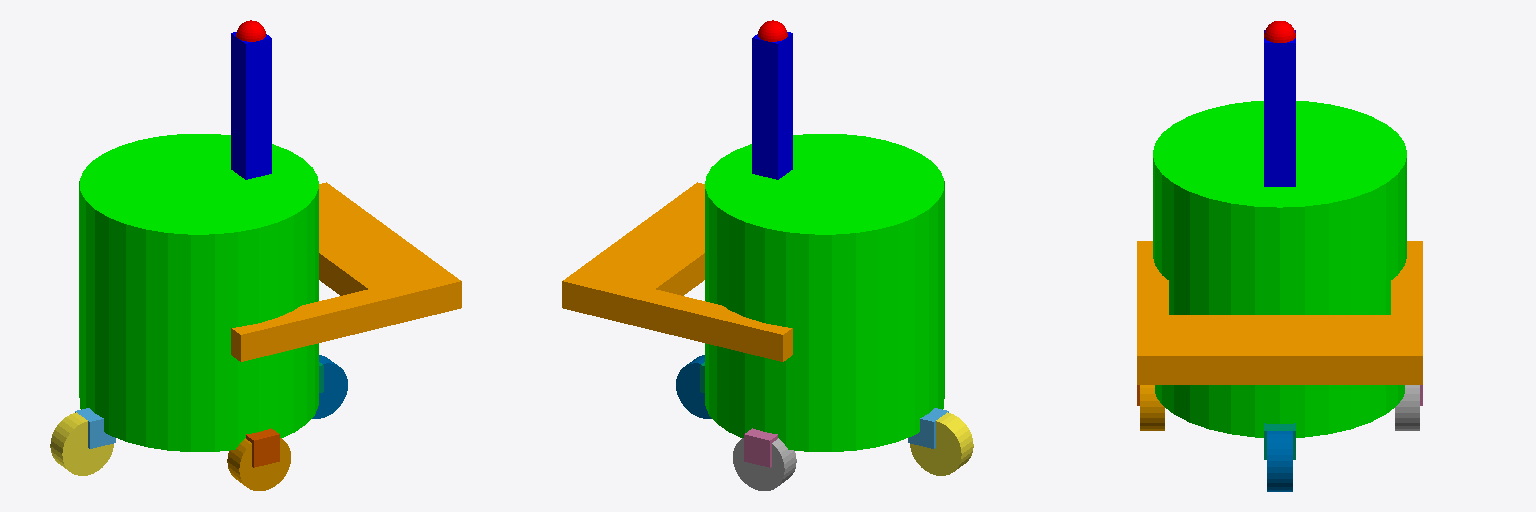
robot.urdf — my_robot:
<?xml version="1.0"?>
<robot name="my_robot">
    <material name="green">
        <color rgba="0 1 0 1"/>        
    </material>

    <material name="red">
        <color rgba="1 0 0 1"/>        
    </material>

    <material name="blue">
        <color rgba="0 0 1 1"/>        
    </material>

    <material name="white">
        <color rgba="1 1 1 1"/>        
    </material>

    <material name="orange">
        <color rgba="1 .647 0 1"/>        
    </material>

    <material name="yellow">
        <color rgba="1 1 0 1"/>        
    </material>

    <!-- Body -->
    <link name="base_link">
        <visual>
        <origin xyz="0.0 0.0 0.2" rpy="0.0 0.0 3.14"/>
            <geometry>
                <cylinder radius="0.2" length=".4"/>
            </geometry>
            <material name="green">
                
            </material>
        </visual>
        <collision>
        <origin xyz="0.0 0.0 0.2" rpy="0.0 0.0 3.14"/>
            <geometry>
                <cylinder radius="0.2" length=".4"/>
            </geometry>
        </collision>
        <inertial>
            <mass value=".5"/>
            <inertia ixx="0.01166667" ixy="0.0" ixz="0.0" iyy="0.01166667" iyz="0.0" izz="0.01000000"/>
        </inertial>
    </link>


    <!--front & rear castors-->
    <link name="rear_castor">
        <visual>
            <geometry>
                <box size="0.05 0.05 0.05"/>    
            </geometry>
            <material name="black">
            </material> 
        </visual>        
        <collision>
            <geometry>
                <box size="0.05 0.05 0.05"/>
            </geometry>
        </collision>
        <inertial>
            <mass value=".2"/>
            <inertia ixx="0.00008333" ixy="0.0" ixz="0.0" iyy="0.00008333" iyz="0.0" izz="0.00008333"/>
        </inertial>
    </link>


    <joint name="rear_castor_joint" type="continuous">
        <axis xyz="0 0 -1"/>
        <origin xyz="-.2 0.0 0"/>
        <parent link="base_link"/>
        <child link="rear_castor"/>
    </joint>


    <link name="front_castor">
        <visual>
            <geometry>
                <box size="0.05 0.05 0.05"/>    
            </geometry>
            <material name="black">
            </material> 
        </visual>        
        <collision>
            <geometry>
                <box size="0.05 0.05 0.05"/>
            </geometry>
        </collision>
        <inertial>
            <mass value=".2"/>
            <inertia ixx="0.00008333" ixy="0.0" ixz="0.0" iyy="0.00008333" iyz="0.0" izz="0.00008333"/>
        </inertial>
    </link>


    <joint name="front_castor_joint" type="continuous">
        <axis xyz="0 0 -1"/>
        <origin xyz=".2 0.0 0"/>
        <parent link="base_link"/>
        <child link="front_castor"/>
    </joint>

    <!--front & rear wheels-->
    <link name="rear_wheel">
        <visual>
            <origin rpy="-1.57 0.0 0"/>
            <geometry>
                <cylinder radius="0.05" length=".04"/>
            </geometry>
            <material name="black">
            </material> 
        </visual>
        <collision>
            <origin rpy="-1.57 0.0 0"/>
            <geometry>
                <cylinder radius="0.05" length=".04"/>
            </geometry>
        </collision>
        <inertial>
            <mass value=".2"/>
            <inertia ixx="0.00015167" ixy="0.0" ixz="0.0" iyy="0.00015167" iyz="0.0" izz="0.00015167"/>
        </inertial>
    </link>

    <joint name="rear_wheel_joint" type="continuous">
        <origin xyz="-.025 0.0 -0.025"/>
        <axis xyz="0.0 1 0.0"/>
        <parent link="rear_castor"/>
        <child link="rear_wheel"/>
    </joint>

     <link name="front_wheel">
        <visual>
            <origin rpy="-1.57 0.0 0"/>
            <geometry>
                <cylinder radius="0.05" length=".04"/>
            </geometry>
            <material name="black">
            </material> 
        </visual>
        <collision>
            <origin rpy="-1.57 0.0 0"/>
            <geometry>
                <cylinder radius="0.05" length=".04"/>
            </geometry>
        </collision>
       <inertial>
            <mass value=".2"/>
            <inertia ixx="0.00015167" ixy="0.0" ixz="0.0" iyy="0.00015167" iyz="0.0" izz="0.00015167"/>
        </inertial>
    </link>

    <joint name="front_wheel_joint" type="continuous">
        <origin xyz=".025 0.0 -0.025"/>
        <axis xyz="0.0 1 0.0"/>
        <parent link="front_castor"/>
        <child link="front_wheel"/>
    </joint>

    <!--left & right castors-->
    <link name="right_castor">
        <visual>
            <geometry>
                <box size="0.05 0.05 0.05"/>    
            </geometry>
            <material name="black">
            </material> 
        </visual>        
        <collision>
            <geometry>
                <box size="0.05 0.05 0.05"/>
            </geometry>
        </collision>
        <inertial>
            <mass value=".2"/>
            <inertia ixx="0.00008333" ixy="0.0" ixz="0.0" iyy="0.00008333" iyz="0.0" izz="0.00008333"/>
        </inertial>
    </link>


    <joint name="right_castor_joint" type="fixed">
        <axis xyz="0 0 -1"/>
        <origin xyz="0 -0.2 0"/>
        <parent link="base_link"/>
        <child link="right_castor"/>
    </joint>


    <link name="left_castor">
        <visual>
            <geometry>
                <box size="0.05 0.05 0.05"/>    
            </geometry>
            <material name="black">
            </material> 
        </visual>        
        <collision>
            <geometry>
                <box size="0.05 0.05 0.05"/>
            </geometry>
        </collision>
        <inertial>
            <mass value=".2"/>
            <inertia ixx="0.00008333" ixy="0.0" ixz="0.0" iyy="0.00008333" iyz="0.0" izz="0.00008333"/>
        </inertial>
    </link>


    <joint name="left_castor_joint" type="fixed">
        <axis xyz="0 0 -1"/>
        <origin xyz="0 0.2 0"/>
        <parent link="base_link"/>
        <child link="left_castor"/>
    </joint>

    <!--left & right wheels-->
    <link name="left_wheel">
        <visual>
            <origin rpy="-1.57 0.0 0"/>
            <geometry>
                <cylinder radius="0.05" length=".04"/>
            </geometry>
            <material name="black">
            </material> 
        </visual>
        <collision>
            <origin rpy="-1.57 0.0 0"/>
            <geometry>
                <cylinder radius="0.05" length=".04"/>
            </geometry>
        </collision>
        <inertial>
            <mass value=".2"/>
            <inertia ixx="0.00015167" ixy="0.0" ixz="0.0" iyy="0.00015167" iyz="0.0" izz="0.00015167"/>
        </inertial>
    </link>

    <joint name="left_wheel_joint" type="continuous">
        <origin xyz="0 0.0 -0.025"/>
        <axis xyz="0.0 1 0.0"/>
        <parent link="left_castor"/>
        <child link="left_wheel"/>
    </joint>

     <link name="right_wheel">
        <visual>
            <origin rpy="-1.57 0.0 0"/>
            <geometry>
                <cylinder radius="0.05" length=".04"/>
            </geometry>
            <material name="black">
            </material> 
        </visual>
        <collision>
            <origin rpy="-1.57 0.0 0"/>
            <geometry>
                <cylinder radius="0.05" length=".04"/>
            </geometry>
        </collision>
       <inertial>
            <mass value=".2"/>
            <inertia ixx="0.00015167" ixy="0.0" ixz="0.0" iyy="0.00015167" iyz="0.0" izz="0.00015167"/>
        </inertial>
    </link>

    <joint name="right_wheel_joint" type="continuous">
        <origin xyz="0 0.0 -0.025"/>
        <axis xyz="0.0 1 0.0"/>                                                                                                               
        <parent link="right_castor"/>
        <child link="right_wheel"/>
    </joint>


    <!--left & right hands-->
    <link name="right_hand">
        <visual>
            <origin xyz=".15 0.0 0.0"/>
            <geometry>
                <box size="0.4 0.05 0.05"/>
            </geometry>
            <material name="orange">
                
            </material>
        </visual>
        <collision>
        <origin xyz=".15 0.0 0.0"/>
            <geometry>
                <box size="0.4 0.05 0.05"/>
            </geometry>
        </collision>
        <inertial>
            <mass value=".08"/>
            <inertia ixx="0.00003333" ixy="0.0" ixz="0.0" iyy="0.00108333" iyz="0.0" izz="0.00108333"/>
        </inertial>
    </link>

    <joint name="right_hand_joint" type="fixed">
        <axis xyz="0 0 0"/>
        <origin xyz="0 -0.2 0.2"/>
        <parent link="base_link"/>
        <child link="right_hand"/>
    </joint>

    <link name="left_hand">
        <visual>
            <origin xyz=".15 0.0 0.0"/>
            <geometry>
                <box size="0.4 0.05 0.05"/>
            </geometry>
            <material name="orange">
                
            </material>
        </visual>
        <collision>
        <origin xyz=".15 0.0 0.0"/>
            <geometry>
                <box size="0.4 0.05 0.05"/>
            </geometry>
        </collision>
        <inertial>
            <mass value=".08"/>
            <inertia ixx="0.00003333" ixy="0.0" ixz="0.0" iyy="0.00108333" iyz="0.0" izz="0.00108333"/>
        </inertial>
    </link>

    <joint name="left_hand_joint" type="fixed">
        <axis xyz="0 0 0"/>
        <origin xyz="0 0.2 0.2"/>
        <parent link="base_link"/>
        <child link="left_hand"/>
    </joint>

    <!--tray-->
    <link name="tray">
        <visual>
            <origin xyz="0 0.0 0.0"/>
            <geometry>
                <box size="0.15 0.45 0.05"/>
            </geometry>
            <material name="orange">
                
            </material>
        </visual>
        <collision>
        <origin xyz="0 0.0 0.0"/>
            <geometry>
                <box size="0.15 0.4 0.05"/>front
            </geometry>
        </collision>
        <inertial>
            <mass value=".08"/>
            <inertia ixx="0.00108333" ixy="0.0" ixz="0.0" iyy="0.00016667" iyz="0.0" izz="0.00121667"/>
        </inertial>
    </link>

    <joint name="tray_joint" type="fixed">
        <axis xyz="0 0 0"/>
        <origin xyz=".30 0 0.2"/>
        <parent link="base_link"/>
        <child link="tray"/>
    </joint>

    <!--camera protrude-->
    <link name="camera_protrude">
         <visual>
            <origin xyz="0 0.0 0.125"/>
            <geometry>
                <box size="0.05 0.05 0.25"/>
            </geometry>
            <material name="blue">
                
            </material>
        </visual>
        <collision>
             <origin xyz="0 0.0 0.125"/>
            <geometry>
                <box size="0.05 0.05 0.25"/>
            </geometry>
        </collision>
        <inertial>
            <mass value=".04"/>
            <inertia ixx="0.00003533" ixy="0.0" ixz="0.0" iyy="0.00003533" iyz="0.0" izz="0.00001667"/>
        </inertial>
    </link>

    <joint name="camera_protrude_joint" type="fixed">
        <axis xyz="0 0 0"/>
        <origin xyz=".10 0 0.4"/>
        <parent link="base_link"/>
        <child link="camera_protrude"/>
    </joint>



    <!--camera-->

    <link name="camera">
    <collision>
      <origin xyz="0 0 -0.025" rpy="0 0 0"/>
        <geometry>
            <sphere radius="0.025"/>
      </geometry>
    </collision>

    <visual>
      <origin xyz="0 0 -.025" rpy="0 0 0"/>
        <geometry>
            <sphere radius="0.025"/>
      </geometry>
      <material name="red"/>
    </visual>

    <inertial>
      <mass value=".02" />
      <inertia ixx="0.00000500" ixy="0" ixz="0" iyy="0.00000500" iyz="0" izz="0.00000500" />
    </inertial>
  </link>

  <joint name="camera_joint" type="fixed">
    <axis xyz="0 0 0" />
    <origin xyz="0 0 0.275" rpy="0 0 0"/>
    <parent link="camera_protrude"/>
    <child link="camera"/>
  </joint>

  
<!--Lidar2D-->  
  <link name="lidar2D">
    
    <visual>
      <origin xyz="0 0 0.0339" rpy="0 0 0"/>
      <geometry>
        <mesh filename="package://ILRobot/meshes/lidar2D.dae"/>
      </geometry>
    </visual>

    <collision>
      <origin xyz="0 0 0" rpy="0 0 0"/>
      <geometry>
        <box size="0.1 0.1 0.1"/>
      </geometry>
    </collision>

    <inertial>
      <mass value=".03" />
      <origin xyz="0 0 0" rpy="0 0 0"/>
      <inertia ixx="0.00005000" ixy="0" ixz="0" iyy="0.00005000" iyz="0" izz="0.00005000" />
    </inertial>
  </link>

  <joint name="lidar2D_joint" type="fixed">
    <axis xyz="0 0 0" />
    <origin xyz=".150 0 0.4" rpy="0 0 0"/>
    <parent link="base_link"/>
    <child link="lidar2D"/>
  </joint>

<!--gazebo reference-->
    
    <gazebo reference="base_link">
        <material>Gazebo/Green</material>
    </gazebo>

    <gazebo reference="front_castor">
        <material>Gazebo/Black</material>
    </gazebo>

    <gazebo reference="rear_castor">
        <material>Gazebo/Black</material>
    </gazebo>

    <gazebo reference="right_castor">
        <material>Gazebo/Black</material>
    </gazebo>

    <gazebo reference="left_castor">
        <material>Gazebo/Black</material>
    </gazebo>

    <gazebo reference="front_wheel">
        <material>Gazebo/Black</material>
  <mu1 value="1.5"/>
      <mu2 value="1.5"/>
      <kp  value="10000000.0" />
      <kd  value="1.5" />

  <implicitSpringDamper>true</implicitSpringDamper>
    </gazebo>

    <gazebo reference="rear_wheel">
        <material>Gazebo/Black</material>

      <mu1 value="1.5"/>
      <mu2 value="1.5"/>
      <kp  value="10000000.0" />
      <kd  value="1.5" />

  <implicitSpringDamper>true</implicitSpringDamper>
    </gazebo>

    <gazebo reference="right_wheel">
        <material>Gazebo/Black</material>
<mu1 value="1.5"/>
      <mu2 value="1.5"/>
      <kp  value="10000000.0" />
      <kd  value="1.5" />

  <implicitSpringDamper>true</implicitSpringDamper>
    </gazebo>

    <gazebo reference="left_wheel">
        <material>Gazebo/Black</material>
<mu1 value="1.5"/>
      <mu2 value="1.5"/>
      <kp  value="10000000.0" />
      <kd  value="1.5" />

  <implicitSpringDamper>true</implicitSpringDamper>
    </gazebo>

    <gazebo reference="left_hand">
        <material>Gazebo/Orange</material>
    </gazebo>
    
    <gazebo reference="right_hand">
        <material>Gazebo/Orange</material>
    </gazebo>

    <gazebo reference="tray">
        <material>Gazebo/Orange</material>
    </gazebo>

    <gazebo reference="camera_protrude">
        <material>Gazebo/Blue</material>
    </gazebo>

    <gazebo reference="camera">
        <material>Gazebo/Yellow</material>
    </gazebo>



    <gazebo>
        <plugin name="differential_drive_controller" filename="libgazebo_ros_diff_drive.so">
            <legacyMode>false</legacyMode>
            <alwaysOn>true</alwaysOn>
            <leftJoint>left_wheel_joint</leftJoint>
            <rightJoint>right_wheel_joint</rightJoint>
            <robotBaseFrame>base_link</robotBaseFrame>
            <wheelSeparation>0.4</wheelSeparation>
            <wheelDiameter>0.1</wheelDiameter>
            <publishWheelJointState>true</publishWheelJointState>
            <torque>10</torque>
            <commandTopic>cmd_vel</commandTopic>
            <odometryTopic>odom</odometryTopic>
            <odometryFrame>odom</odometryFrame>
            <robotBaseFrame>base_link</robotBaseFrame>
        </plugin>
    </gazebo>

    <gazebo reference="camera">
    <sensor type="camera" name="ILRobotcamera">
      <update_rate>30.0</update_rate>
      <camera name="head">
        <horizontal_fov>1.3962634</horizontal_fov>
        <image>
          <width>800</width>
          <height>800</height>
          <format>R8G8B8</format>
        </image>
        <clip>
          <near>0.02</near>
          <far>300</far>
        </clip>
      </camera>
      <plugin name="camera_controller" filename="libgazebo_ros_camera.so">
        <alwaysOn>true</alwaysOn>
        <updateRate>0.0</updateRate>
        <cameraName>ILRobot/ILRobotcamera</cameraName>
        <imageTopicName>image_raw</imageTopicName>
        <cameraInfoTopicName>camera_info</cameraInfoTopicName>
        <frameName>camera</frameName>
        <hackBaseline>0.07</hackBaseline>
        <distortionK1>0.0</distortionK1>
        <distortionK2>0.0</distortionK2>
        <distortionK3>0.0</distortionK3>
        <distortionT1>0.0</distortionT1>
        <distortionT2>0.0</distortionT2>
      </plugin>
    </sensor>
  </gazebo>

  <gazebo reference="lidar2D">
    <sensor type="gpu_ray" name="head_hokuyo_sensor">
      <pose>0 0 0 0 0 0</pose>
      <visualize>false</visualize>
      <update_rate>40</update_rate>
      <ray>
        <scan>
          <horizontal>
            <samples>720</samples>
            <resolution>1</resolution>
            <min_angle>-1.570796</min_angle>
            <max_angle>1.570796</max_angle>
          </horizontal>
        </scan>
        <range>
          <min>0.10</min>
          <max>30.0</max>
          <resolution>0.01</resolution>
        </range>
        <noise>
          <type>gaussian</type>
          <mean>0.0</mean>
          <stddev>0.01</stddev>
        </noise>
      </ray>
      <plugin name="gazebo_ros_head_hokuyo_controller" filename="libgazebo_ros_gpu_laser.so">
        <topicName>/ILRobot/laser/scan</topicName>
        <frameName>lidar2D</frameName>
      </plugin>
    </sensor>
  </gazebo>
  
</robot>

--- Facts derived from the render (not from the file) ---
Views: 3 orthographic renders of the robot side by side, from view 1: azimuth 30°, elevation 25°; view 2: azimuth 150°, elevation 25°; view 3: azimuth 270°, elevation 25°.
Model my_robot with 15 links and 14 joints (6 continuous, 8 fixed), rooted at base_link, posed all joints at 0.
Visible links, largest first — view 1: base_link, tray, right_hand, camera_protrude, rear_wheel, right_wheel, front_wheel, right_castor, rear_castor; view 2: base_link, tray, left_hand, camera_protrude, rear_wheel, left_wheel, front_wheel, left_castor, rear_castor; view 3: base_link, tray, camera_protrude, left_hand, right_hand, front_wheel, left_wheel, right_wheel, camera.
Link boxes in pixels (x1,y1,x2,y2): base_link: (79,134,318,451); tray: (319,182,461,323); right_hand: (231,278,448,361); camera_protrude: (231,32,271,179); rear_wheel: (50,412,113,475); right_wheel: (227,438,290,490); front_wheel: (312,355,347,418); right_castor: (246,428,279,467); rear_castor: (75,408,115,448); base_link: (705,134,944,451); tray: (562,182,704,326); left_hand: (576,283,792,361); camera_protrude: (752,32,792,179); rear_wheel: (910,412,973,475); left_wheel: (733,438,796,490); front_wheel: (676,355,711,418); left_castor: (744,428,777,467); rear_castor: (908,408,948,448); base_link: (1153,101,1406,437); tray: (1137,315,1422,384); camera_protrude: (1264,30,1295,186); left_hand: (1391,241,1422,348); right_hand: (1137,241,1168,344); front_wheel: (1267,431,1292,491); left_wheel: (1395,385,1419,430); right_wheel: (1140,385,1164,430); camera: (1264,21,1295,42).
Size in the robot's own frame: 0.65 by 0.45 by 0.75 metres.
Meshes: 1 distinct files referenced, 0 mesh visuals loaded (none loaded); not drawn: 1 (reference not matched to a file when rendering).
